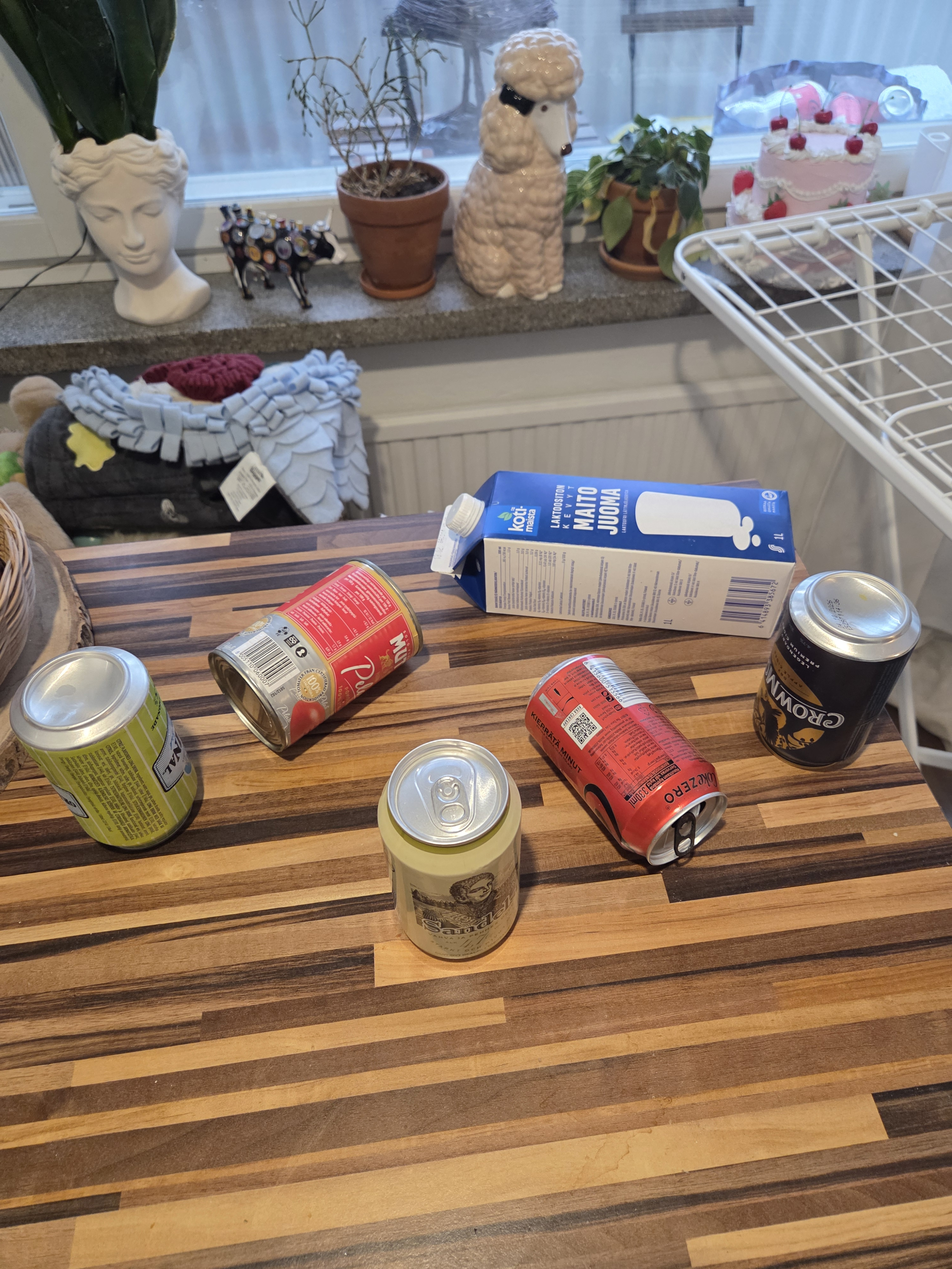Dryckeskartong: (431, 470, 797, 640)
Konservburk: (207, 557, 425, 751)
Pantburk: (525, 653, 726, 867), (9, 646, 200, 852), (752, 571, 922, 767), (376, 738, 523, 960)
